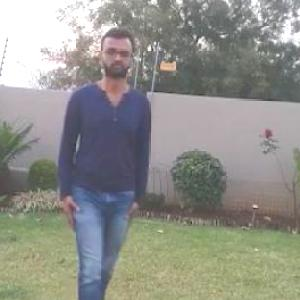follow: (60, 27, 159, 299)
